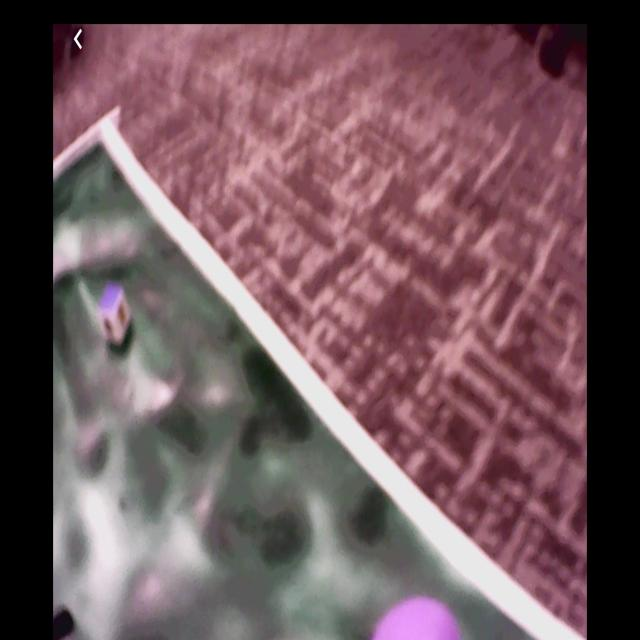ball: (372, 600, 465, 640)
